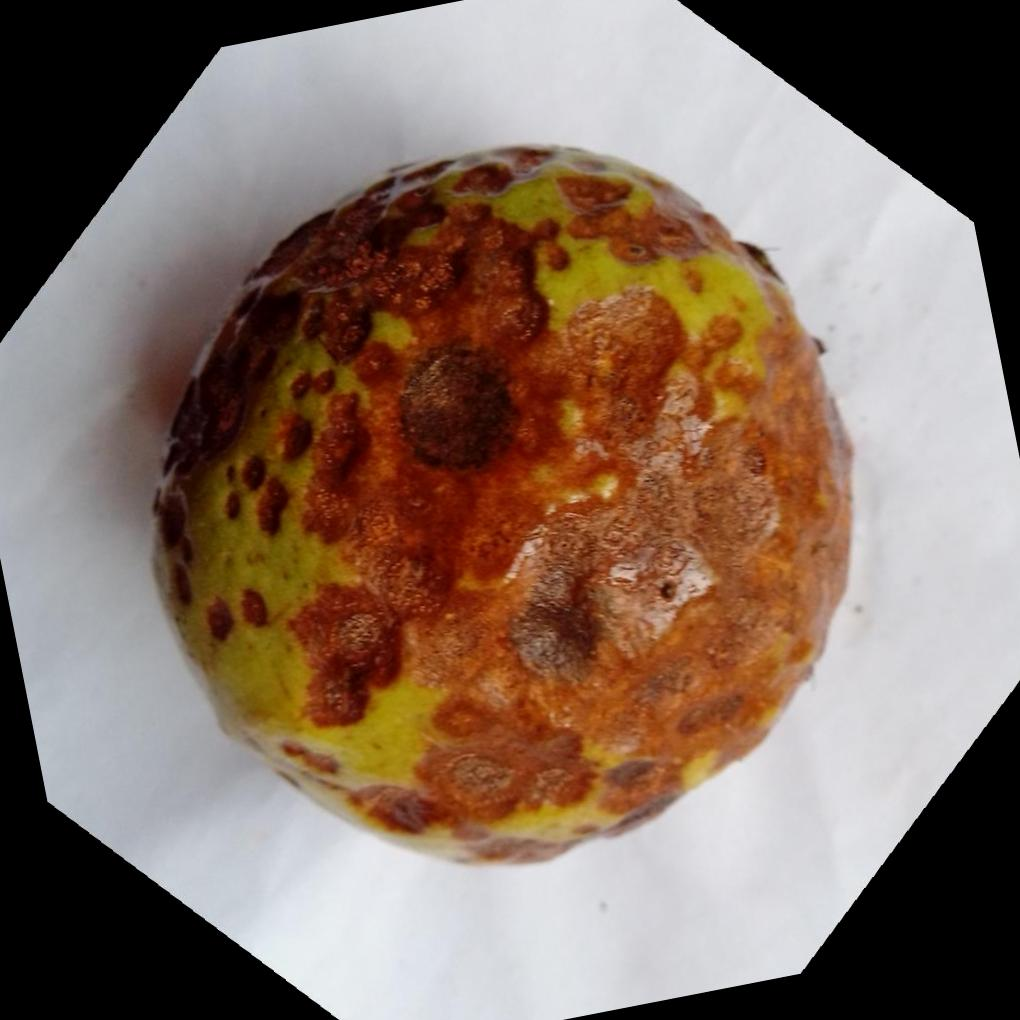FreshOrange: (148, 144, 856, 871)
